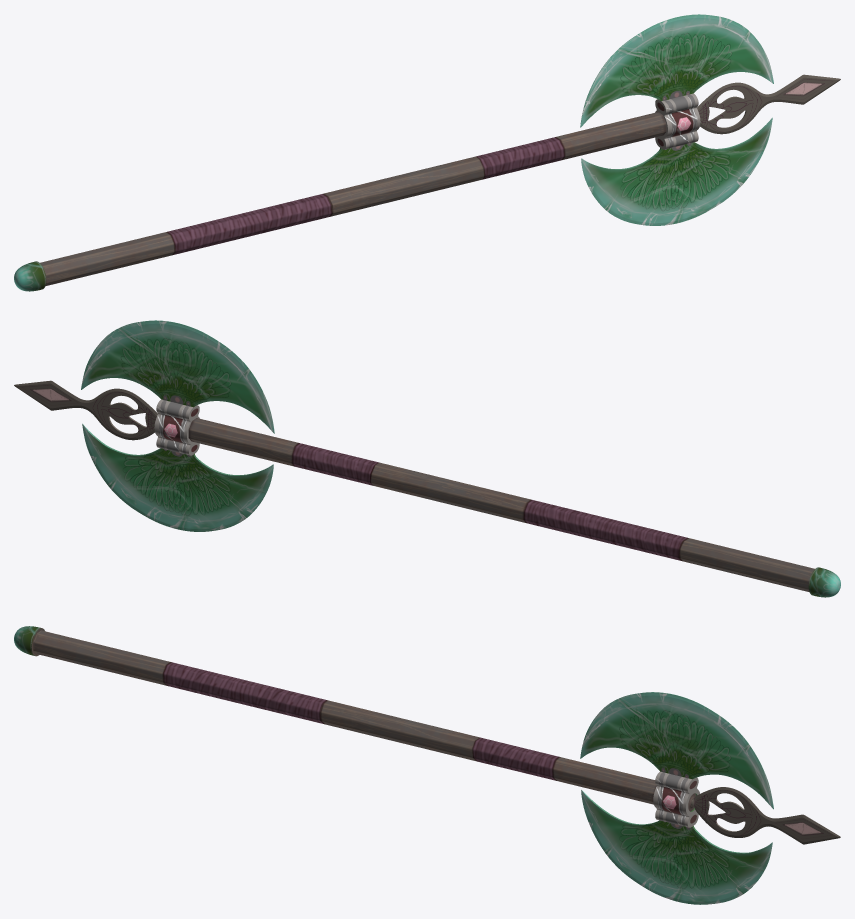
Rendered from axe_low_uv.fbx.
3 renders of one model, top to bottom at view 1: azimuth 30°, elevation 25°; view 2: azimuth 150°, elevation 25°; view 3: azimuth 330°, elevation 25°, orthographic.
Parts seen in each view (by area): view 1: polySurface1, polySurface2; view 2: polySurface1, polySurface2; view 3: polySurface1, polySurface2.
Part boxes in pixels (x1,y1,x2,y2): polySurface1: (580,14,773,225); polySurface2: (14,74,840,291); polySurface1: (81,320,274,531); polySurface2: (14,380,840,597); polySurface1: (580,692,773,904); polySurface2: (14,626,840,844).
Size of the model in its own units: 1.44 by 0.0445 by 0.344.
2 materials, 2 textured.
